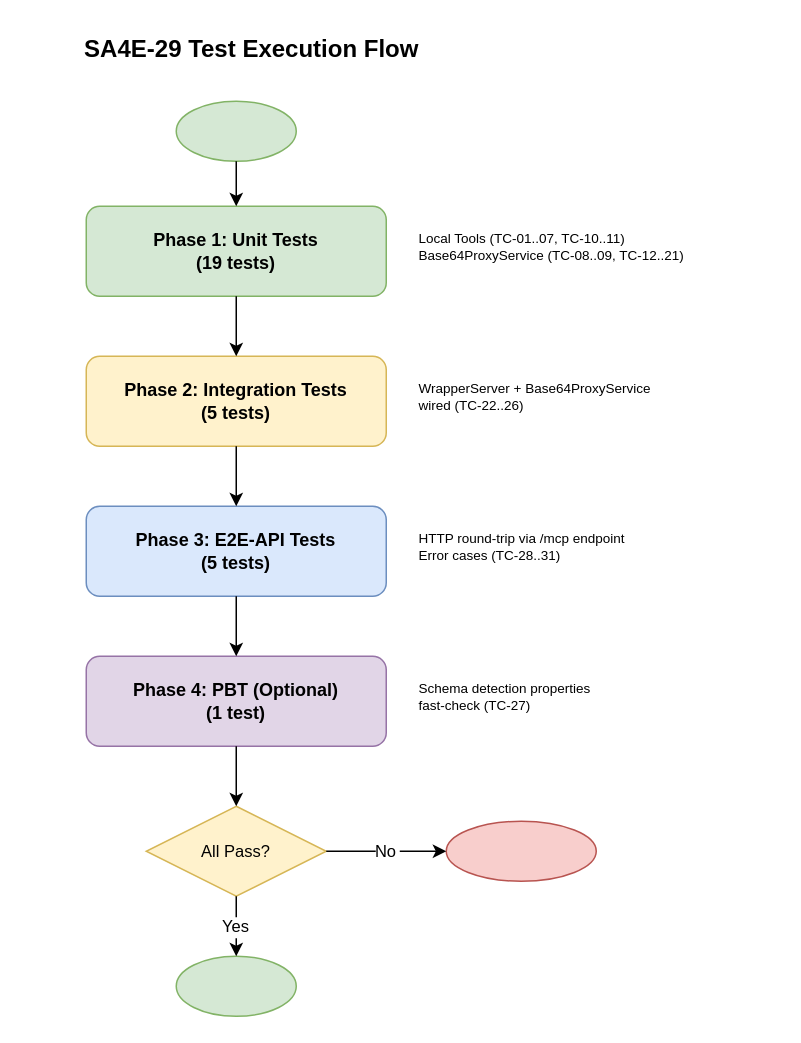
The diagram is 801 pixels wide and 1043 high, and some of its shapes have lost their labels. Here are the shapes that lost their labels. From the top down, the centre of each, then its label:
point 235,130: Start
point 520,850: FAIL - Fix
point 235,985: PASS
